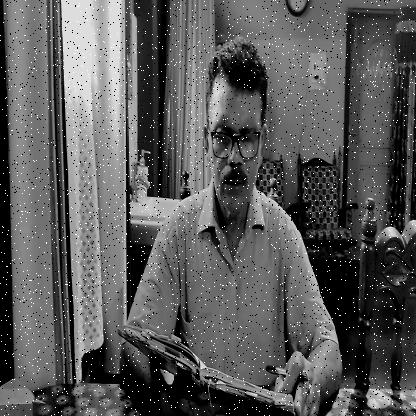Normal: (206, 40, 269, 217)
